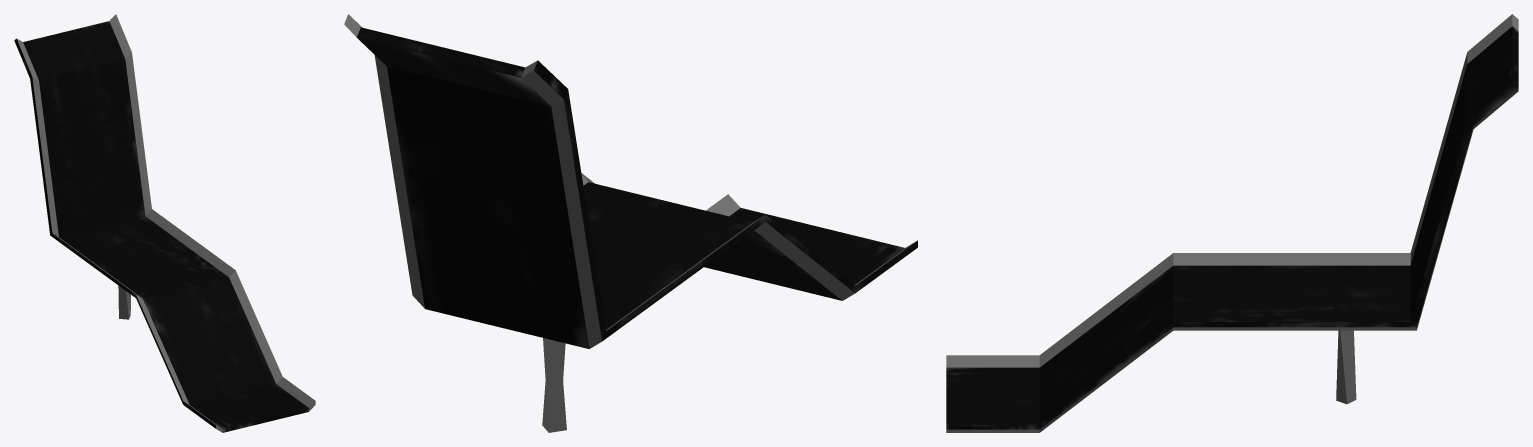
Rendered from chair.fbx.
3 renders of one model, left to right at view 1: azimuth 30°, elevation 25°; view 2: azimuth 150°, elevation 25°; view 3: azimuth 270°, elevation 25°, orthographic. The views are drawn at different scales.
Parts seen in each view (by area): view 1: chair; view 2: chair; view 3: chair.
Boxes of the visible parts, box(x1,y1,x2,y2) form: chair: box(14, 14, 315, 432); chair: box(344, 14, 917, 432); chair: box(946, 14, 1518, 432).
Size of the model in its own units: 3.92 by 9.41 by 13.76.
